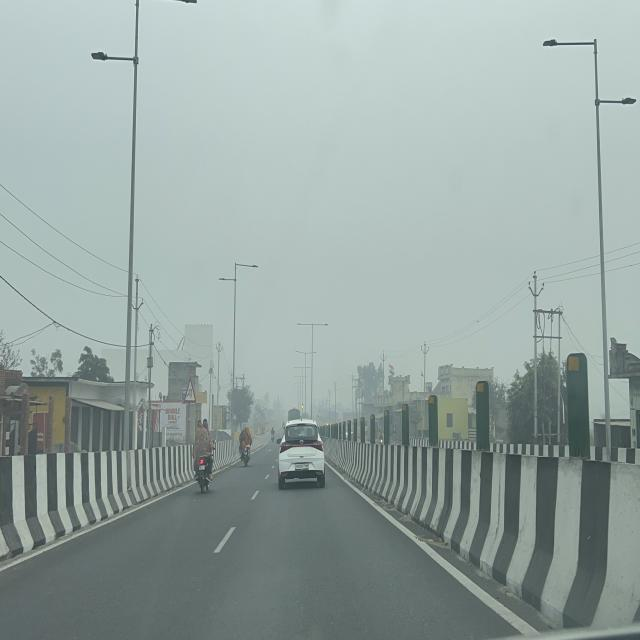WARNING: (184, 378, 196, 403)
